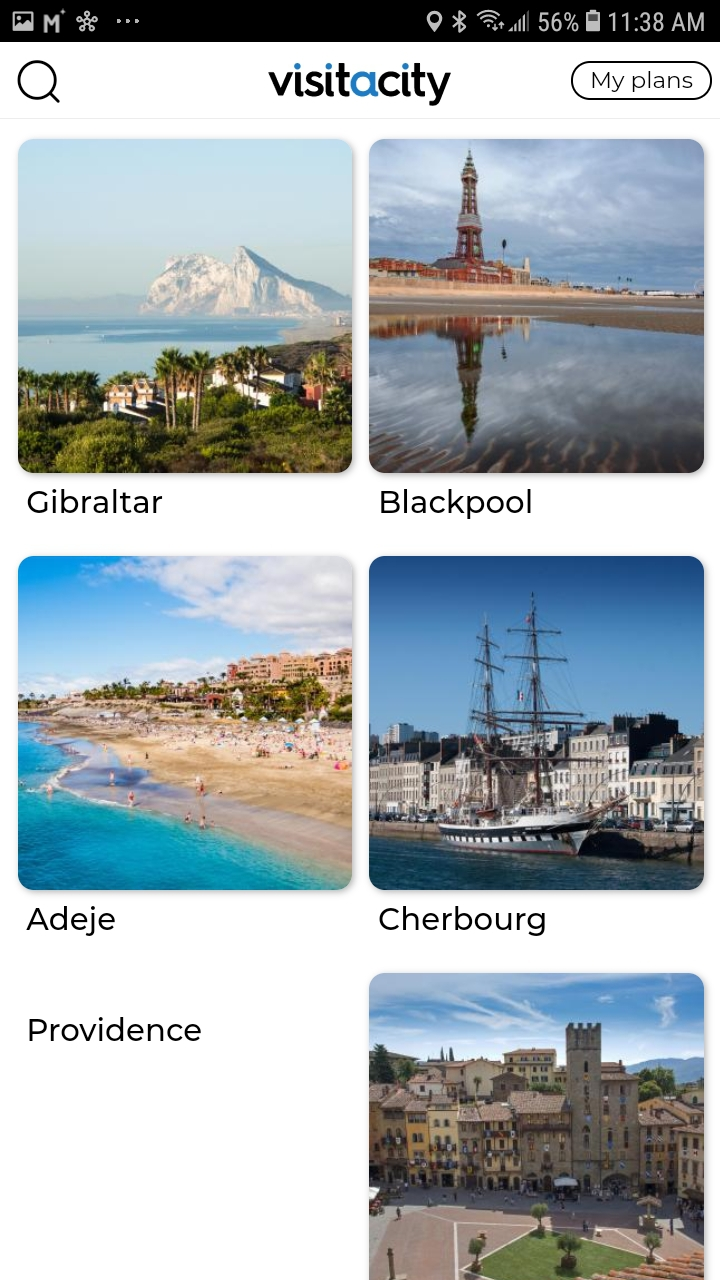Icon: (18, 60, 62, 104)
Image: (18, 556, 353, 891), (370, 556, 705, 891), (369, 139, 704, 474), (19, 140, 353, 474), (369, 972, 704, 1280), (268, 63, 452, 108)
Text: (379, 905, 546, 936), (381, 489, 532, 520), (29, 1016, 202, 1042), (28, 488, 164, 514), (27, 905, 117, 937)
TextButton: (571, 62, 713, 102)
UpperTaskBar: (1, 1, 720, 43)
